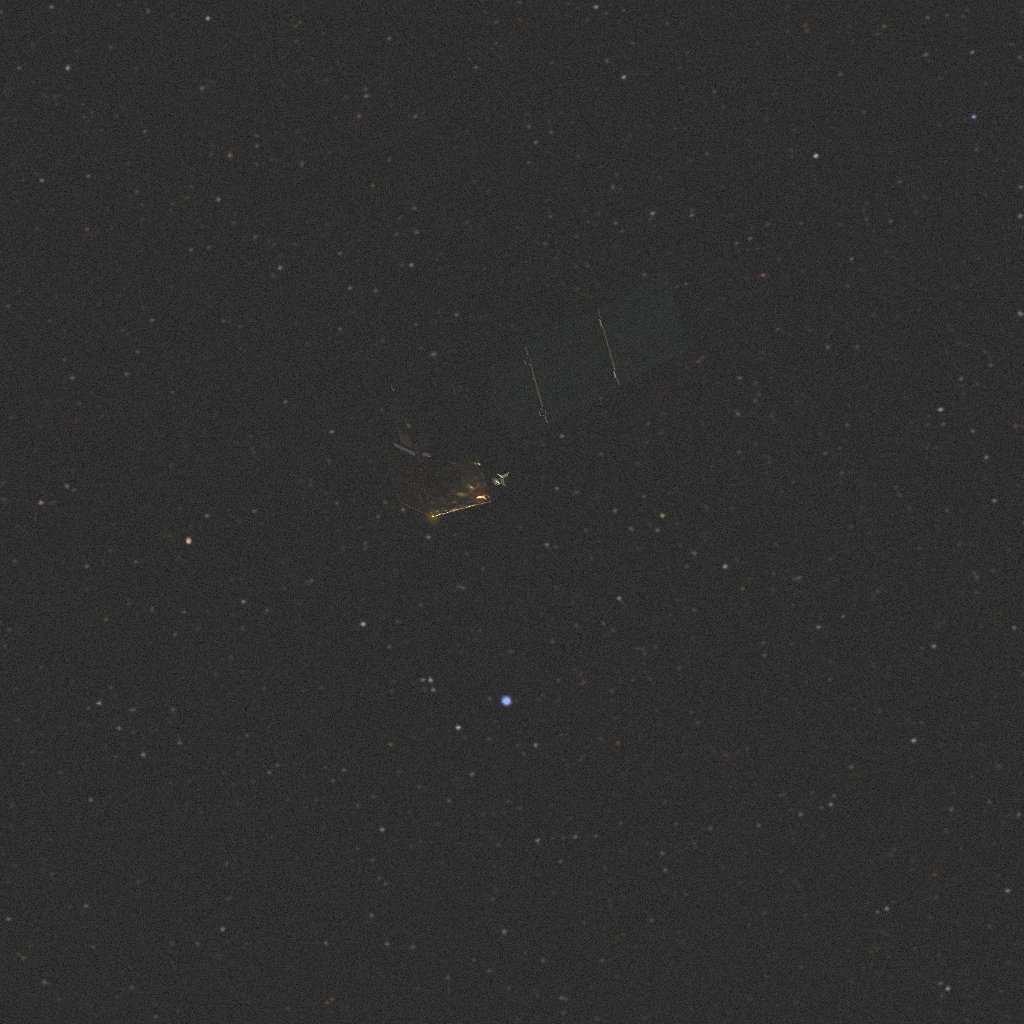earth_observation_sat_1: (386, 273, 688, 518)
